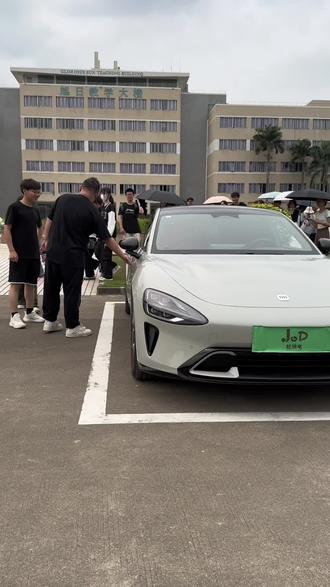su7: (134, 206, 330, 385)
